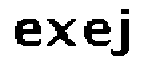e: (10, 14, 44, 49), (79, 17, 113, 48)
j: (112, 5, 136, 60)
x: (43, 12, 78, 51)
